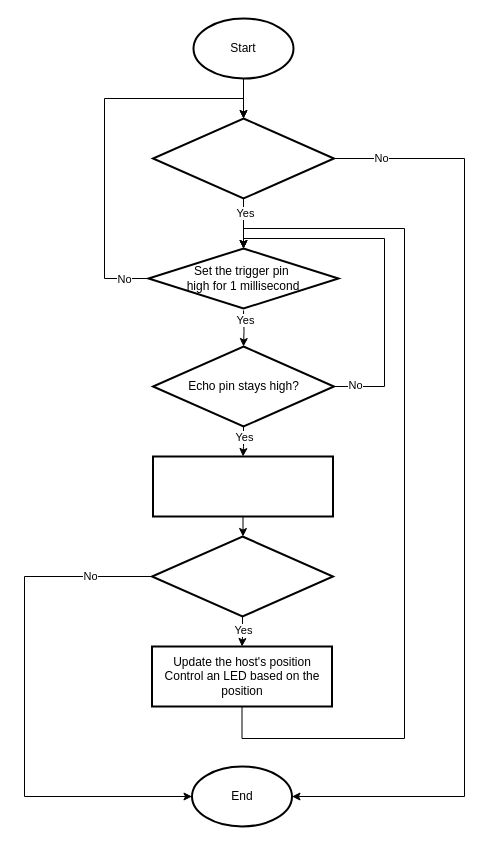
The diagram is 490 pixels wide and 844 high, and some of its shapes have lost their labels. The centre of each missing label's shape, as x and y in pixels:
Is app handler still active?: pixel 242 576
Measure the time and calculate the distance of host: pixel 243 486
System and peripheral initialization?: pixel 243 158
